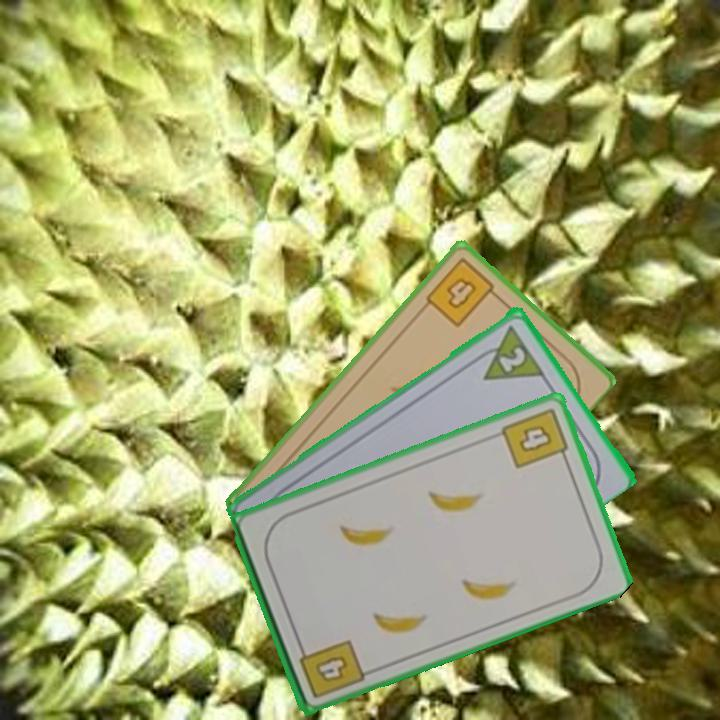2p: (495, 342, 529, 375)
4b: (421, 253, 503, 330), (498, 403, 572, 472), (295, 635, 367, 701)
